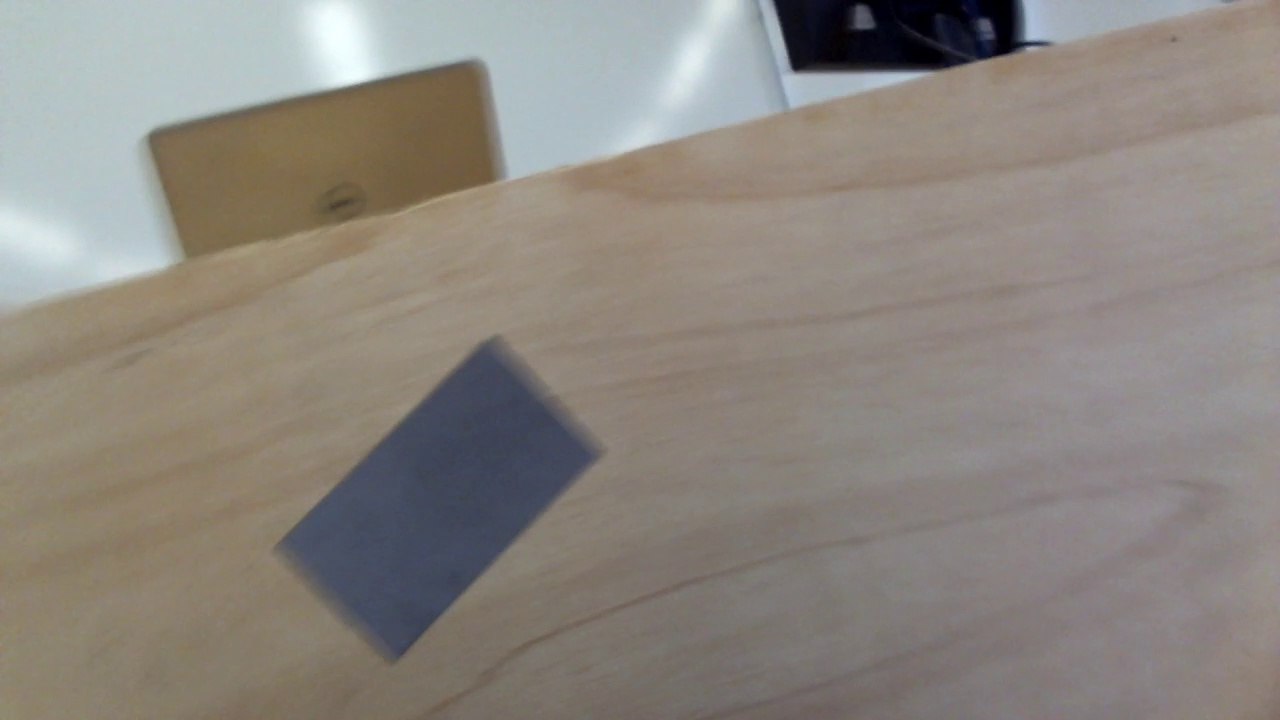Tape: (272, 338, 604, 660)
